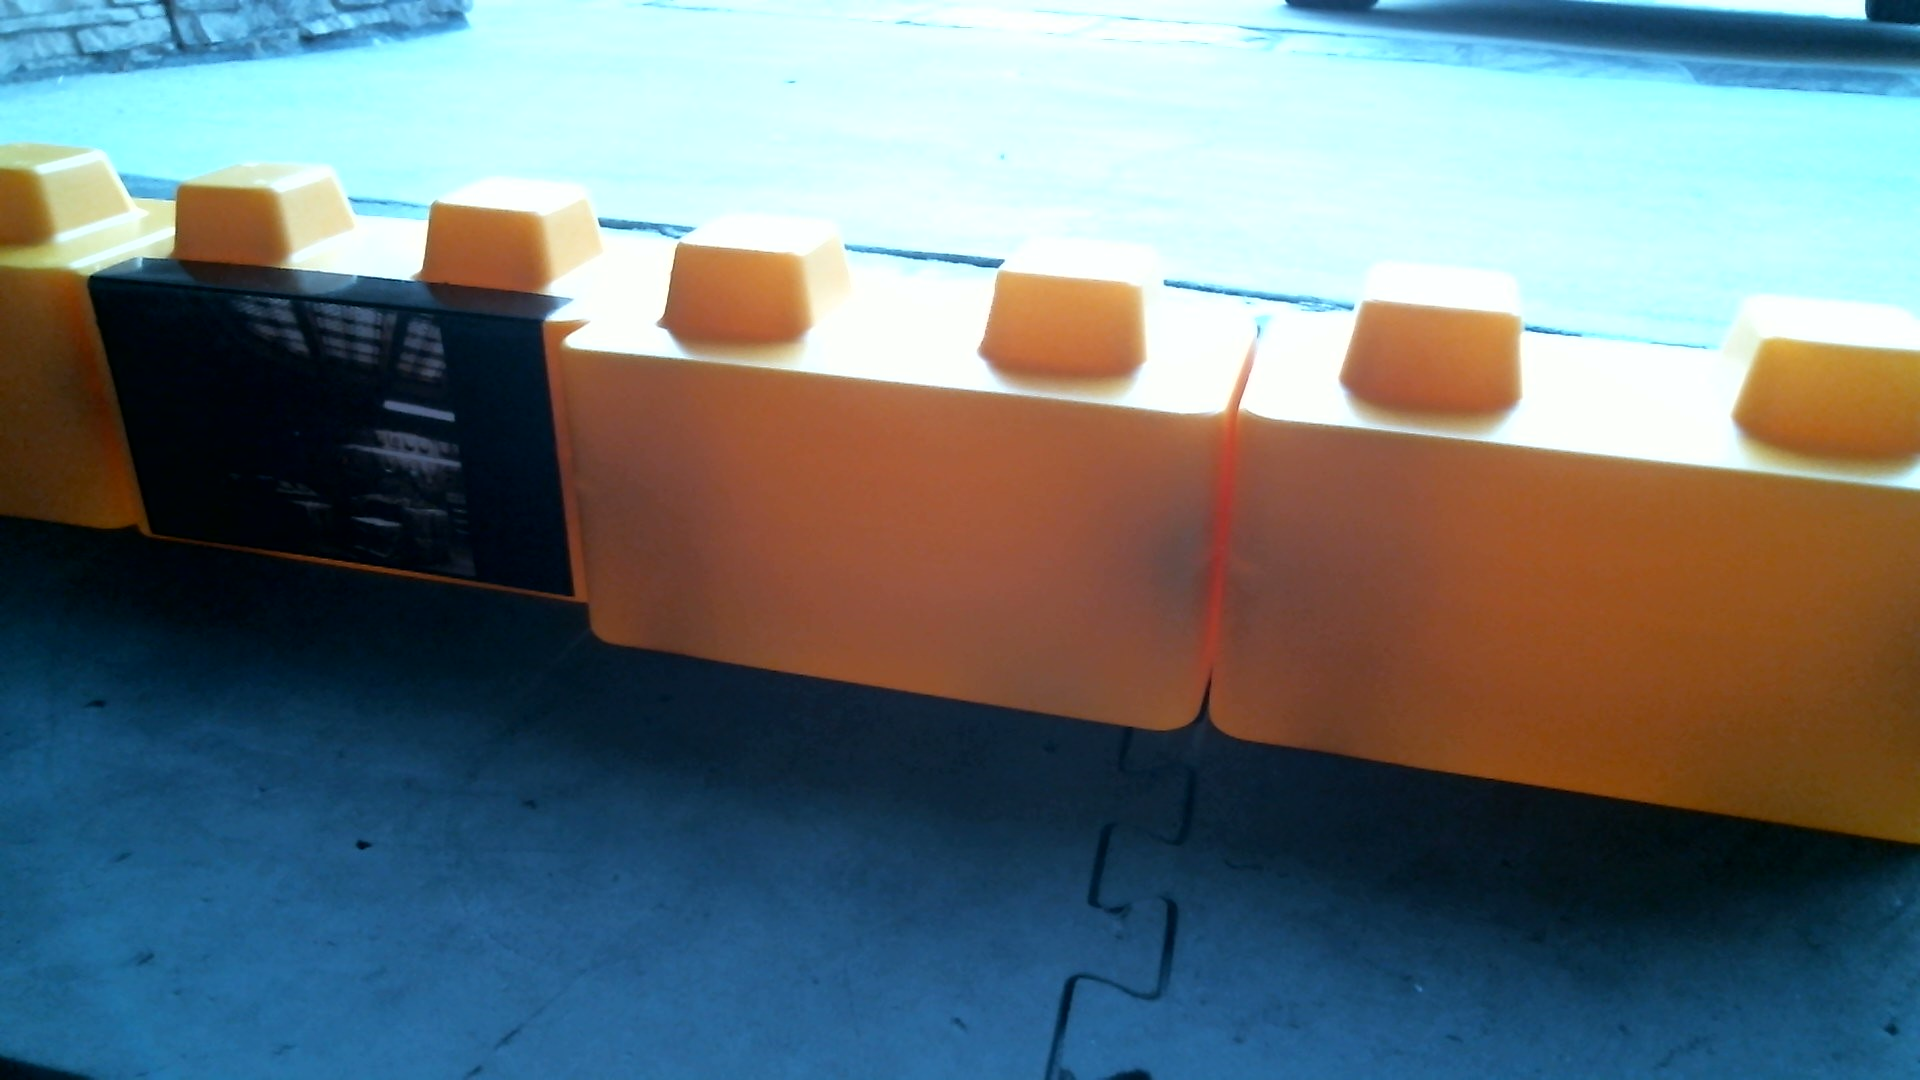left: (66, 127, 1919, 891)
